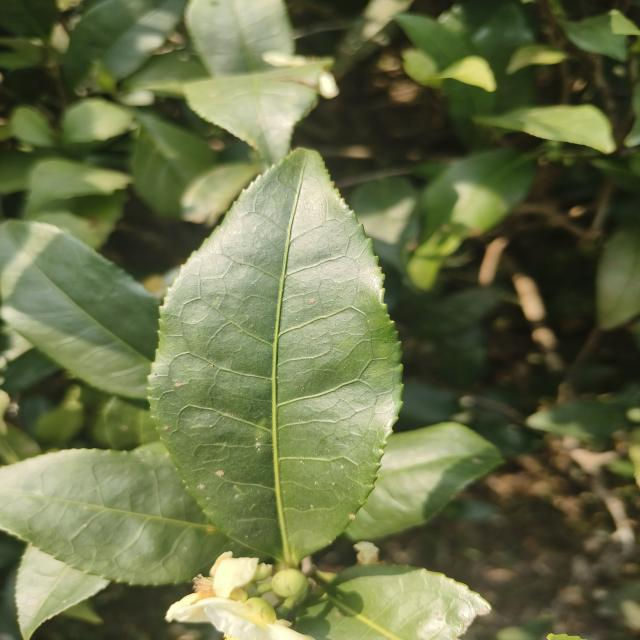Leaf: (149, 149, 401, 565), (0, 449, 249, 585), (0, 219, 159, 399), (344, 422, 502, 542), (400, 150, 534, 290), (297, 565, 490, 640), (184, 63, 322, 164), (62, 0, 186, 93), (3, 546, 109, 640), (132, 110, 214, 217), (185, 0, 294, 77), (475, 104, 615, 153), (26, 158, 131, 213), (32, 192, 125, 248), (596, 221, 640, 330), (408, 287, 499, 338), (352, 177, 417, 245), (527, 400, 628, 443), (395, 13, 472, 68), (98, 396, 159, 450), (394, 380, 457, 431), (62, 98, 133, 143), (561, 14, 626, 61), (0, 390, 41, 464), (435, 56, 496, 92), (10, 106, 56, 147)
